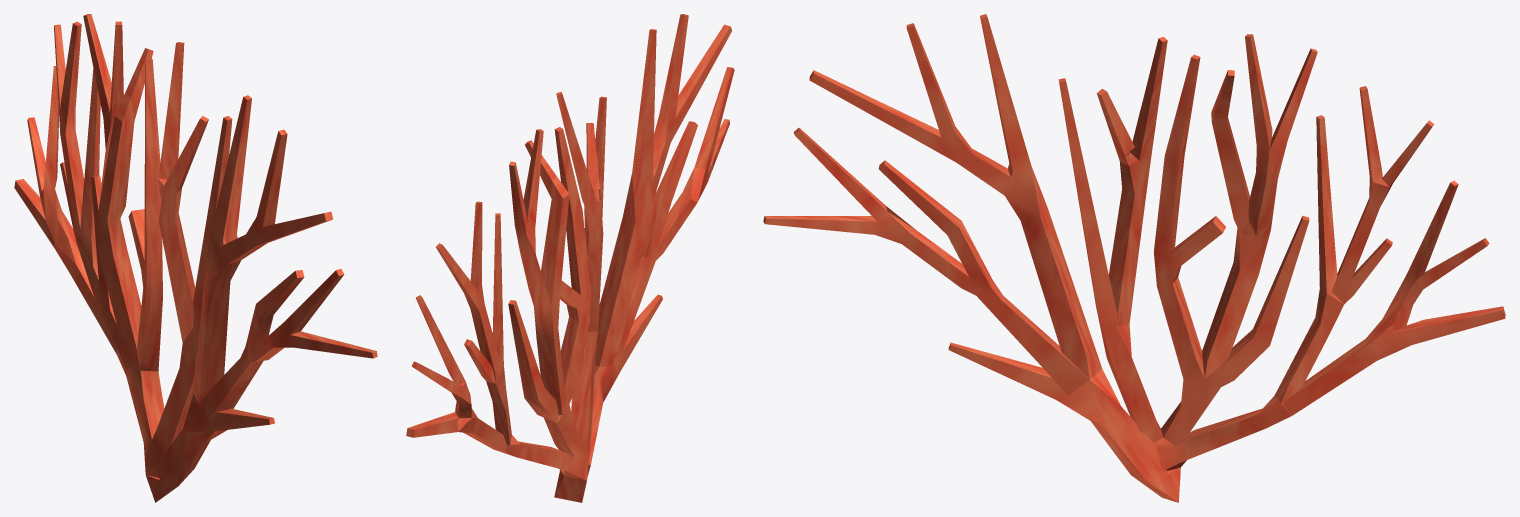
The model's file is Coral5.obj.
The picture shows the model from 3 angles, left to right: view 1: azimuth 30°, elevation 25°; view 2: azimuth 150°, elevation 25°; view 3: azimuth 270°, elevation 25°; orthographic projection. The views are drawn at different scales.
Visible parts, largest first — view 1: Coral5; view 2: Coral5; view 3: Coral5.
Boxes of the visible parts, x1,y1,x2,y2 form: Coral5: (14, 14, 377, 502); Coral5: (406, 14, 734, 502); Coral5: (763, 14, 1505, 502).
Bounding box in the file's own units: 0.1169 × 0.8918 × 1.24.
Materials: 1 (1 with a texture image).
